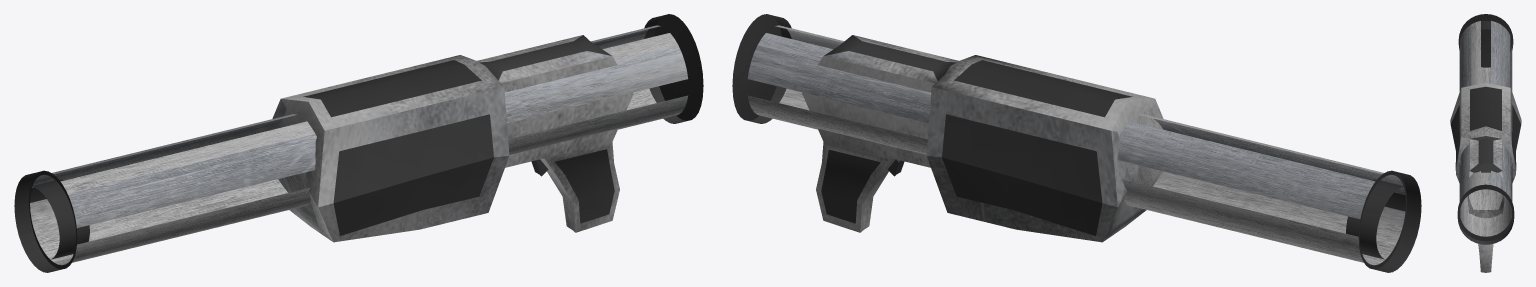
The model's file is Rocket.fbx.
The picture shows the model from 3 angles, left to right: view 1: azimuth 30°, elevation 25°; view 2: azimuth 150°, elevation 25°; view 3: azimuth 270°, elevation 25°; orthographic projection. The views are drawn at different scales.
Visible parts, largest first — view 1: Cube; view 2: Cube; view 3: Cube.
Part boxes in pixels (<box>): Cube: <box>14,14,703,272</box>; Cube: <box>732,14,1421,272</box>; Cube: <box>1450,14,1521,272</box>.
Size of the model in its own units: 113 by 32.38 by 19.29.
